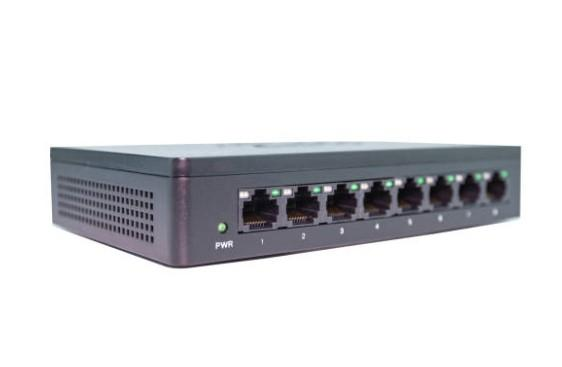NetworkSwitch: (50, 141, 523, 269)
